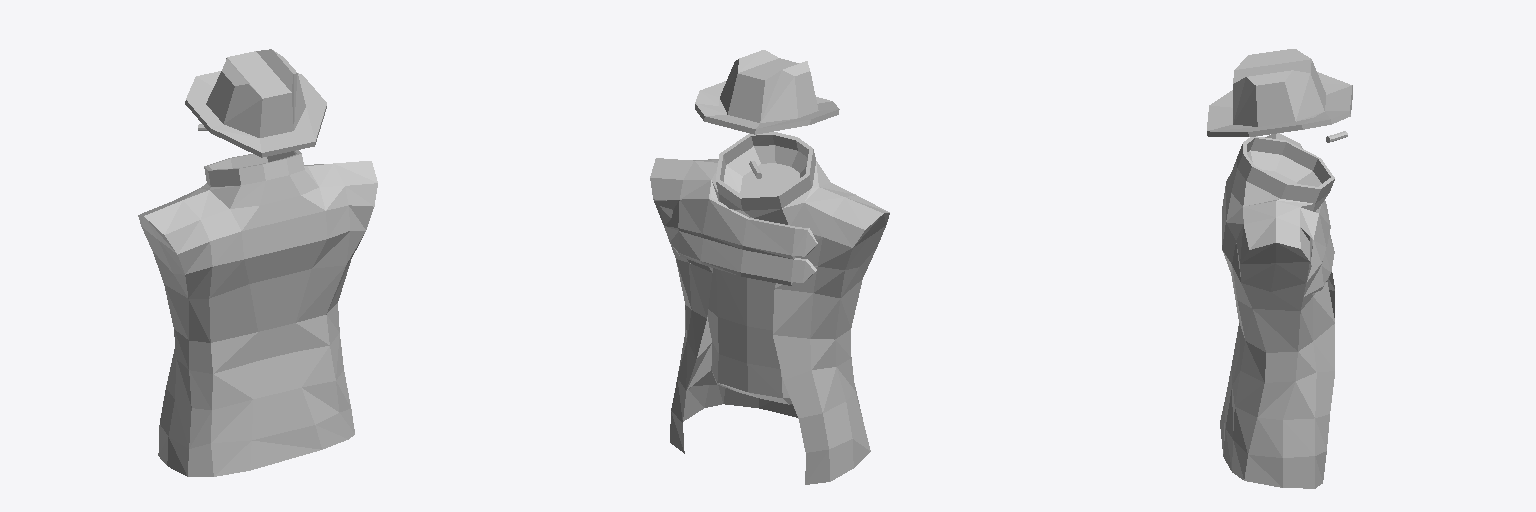
Rendered from PlayerBody_01.obj.
The picture shows the model from 3 angles: view 1: azimuth 30°, elevation 25°; view 2: azimuth 150°, elevation 25°; view 3: azimuth 270°, elevation 25°; orthographic projection.
Parts seen in each view (by area): view 1: Body, Hat; view 2: Body, Hat; view 3: Body, Hat.
Part boxes in pixels (x1,y1,x2,y2): Body: (138, 150, 377, 476); Hat: (185, 49, 326, 157); Body: (650, 132, 889, 484); Hat: (695, 50, 839, 134); Body: (1220, 133, 1334, 488); Hat: (1207, 49, 1352, 136).
Bounding box in the file's own units: 0.619 × 1.02 × 0.3458.